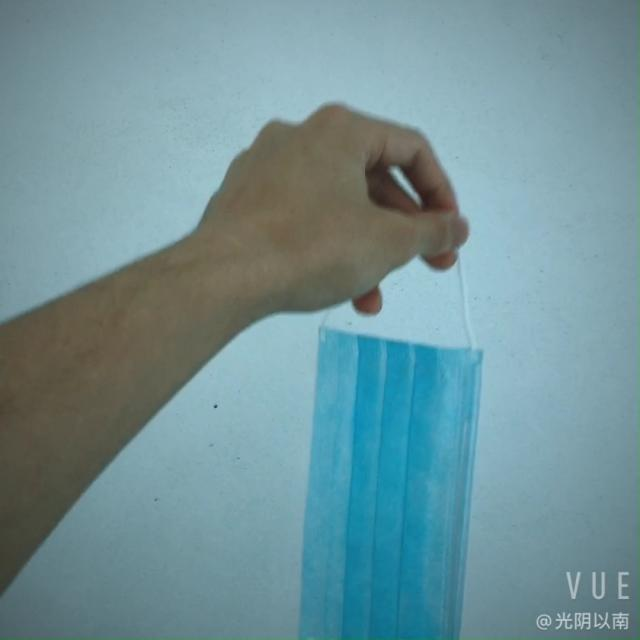non-organic waste: (262, 326, 492, 632)
